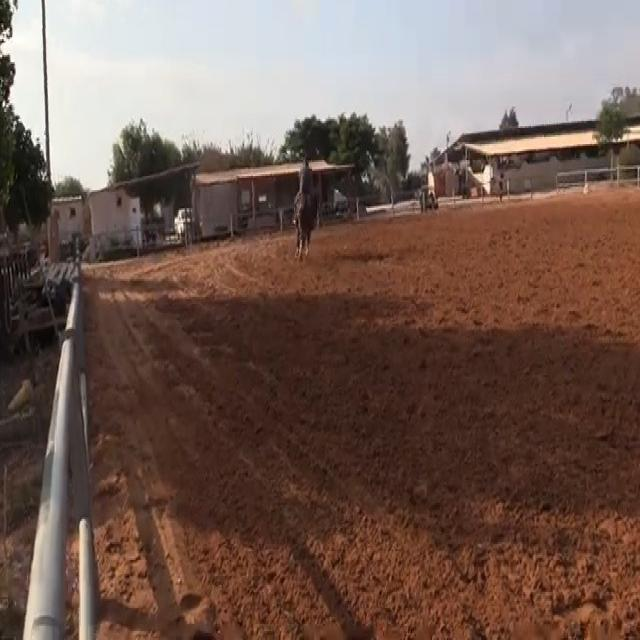horse: (290, 176, 321, 263)
